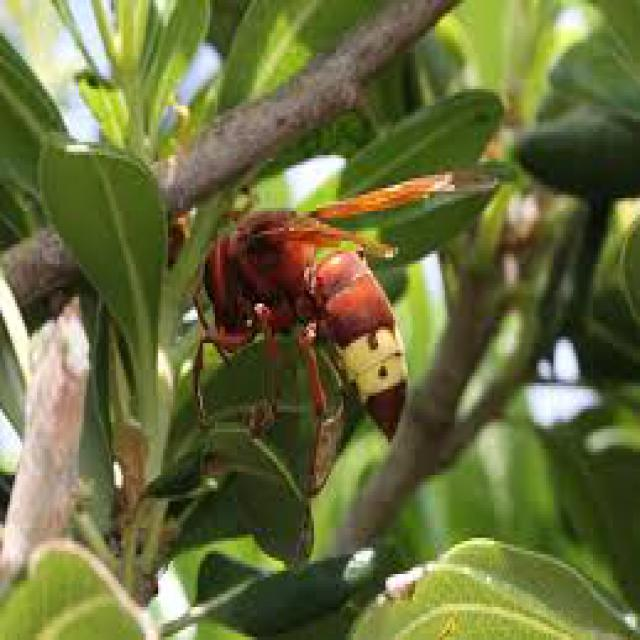Vespa Orientalis: (156, 161, 506, 477)
